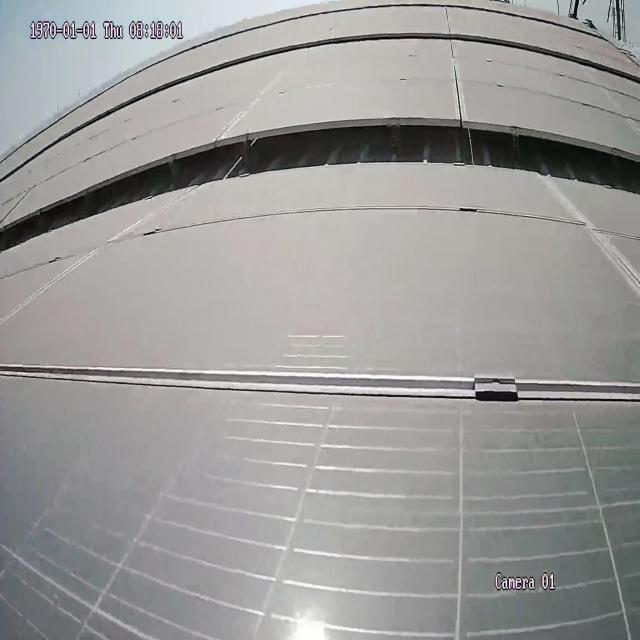interior panel: (0, 359, 640, 404), (541, 182, 640, 292)
outher panel: (3, 122, 639, 254)
